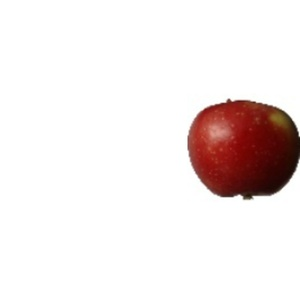maçã braeburn: (185, 98, 300, 194)
